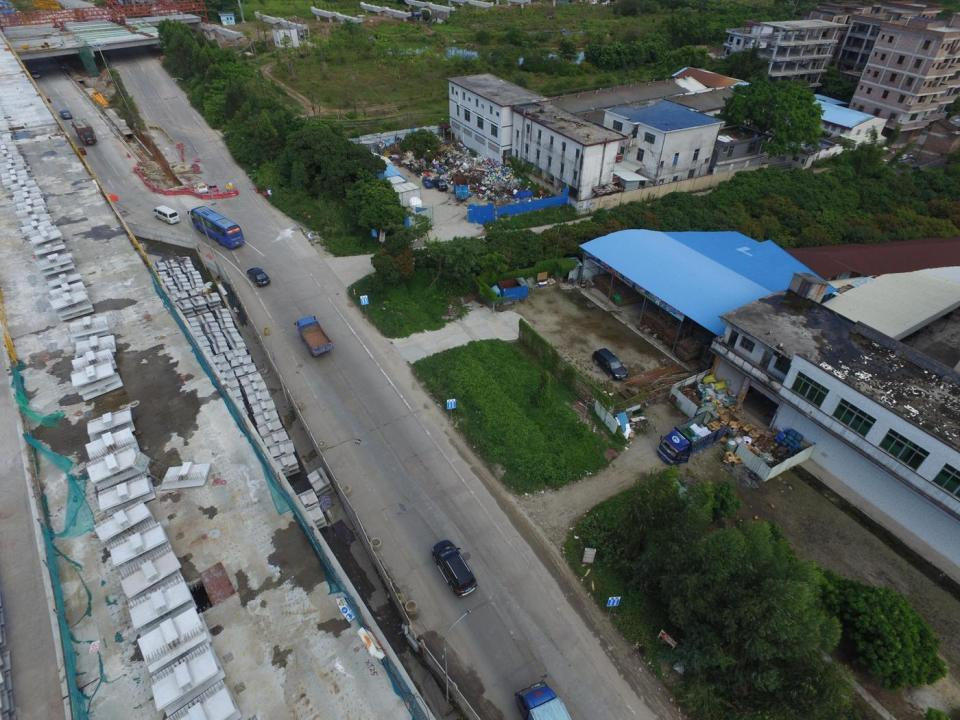bus: (188, 208, 246, 248)
car: (433, 539, 476, 597), (593, 346, 626, 381), (246, 270, 272, 288), (422, 173, 435, 190), (432, 178, 448, 191), (198, 182, 209, 195), (60, 110, 71, 119)
truck: (656, 413, 723, 463), (517, 683, 573, 720), (297, 315, 337, 358), (71, 118, 97, 144), (452, 171, 468, 200)
van: (152, 205, 181, 224)
